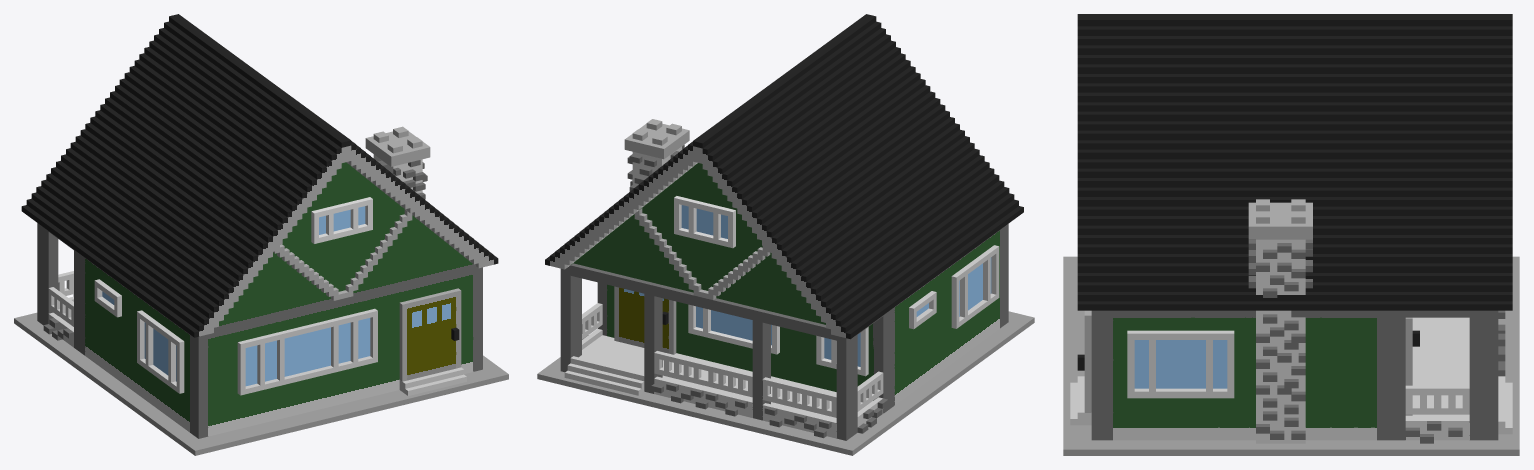
Rendered from obj_house3b.fbx.
3 renders of one model, left to right at view 1: azimuth 30°, elevation 25°; view 2: azimuth 150°, elevation 25°; view 3: azimuth 270°, elevation 25°, orthographic. The views are drawn at different scales.
Parts seen in each view (by area): view 1: obj_house3b; view 2: obj_house3b; view 3: obj_house3b.
Part boxes in pixels (x1,y1,x2,y2): obj_house3b: [14, 14, 508, 455]; obj_house3b: [537, 14, 1034, 455]; obj_house3b: [1063, 14, 1519, 455].
Size of the model in its own units: 6.4 by 6.4 by 5.3.
1 material, 1 textured.
